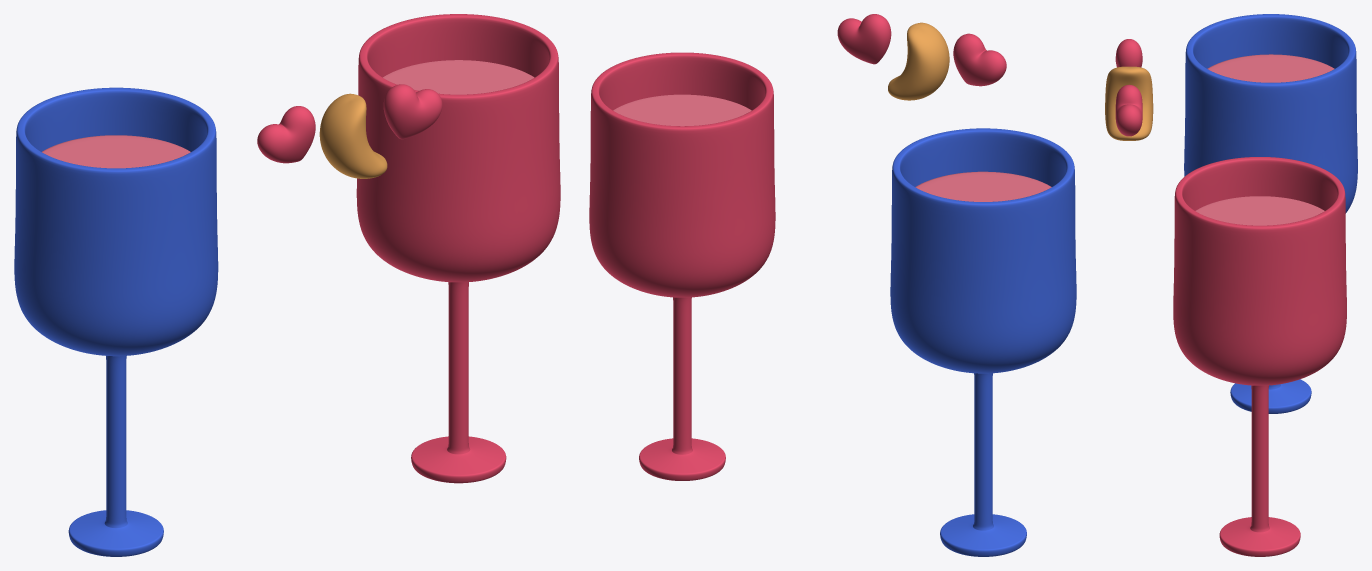
File: night-date-3d-animated-icon-1244209670007.glb
3 views of the same model, side by side, from view 1: azimuth 30°, elevation 25°; view 2: azimuth 150°, elevation 25°; view 3: azimuth 270°, elevation 25° (orthographic). The views are drawn at different scales.
Parts seen in each view (by area): view 1: glass 1, glass 2, moon, water 2, water 1, heart.001, heart; view 2: glass 1, glass 2, moon, water 2, water 1, heart.001, heart; view 3: glass 2, glass 1, water 2, water 1, moon, heart.001, heart.
Boxes of the visible parts, box(x1,y1,x2,y2) form: glass 1: box(14, 87, 218, 556); glass 2: box(356, 14, 560, 483); moon: box(319, 93, 387, 178); water 2: box(383, 60, 534, 94); water 1: box(42, 135, 190, 168); heart.001: box(383, 84, 442, 139); heart: box(257, 106, 315, 163); glass 1: box(890, 128, 1076, 556); glass 2: box(589, 52, 775, 480); moon: box(888, 22, 949, 100); water 2: box(613, 94, 751, 126); water 1: box(915, 171, 1051, 201); heart.001: box(837, 14, 891, 64); heart: box(953, 33, 1006, 86); glass 2: box(1173, 157, 1346, 556); glass 1: box(1184, 14, 1357, 413); water 2: box(1195, 196, 1324, 225); water 1: box(1207, 54, 1334, 82); moon: box(1105, 66, 1153, 140); heart.001: box(1115, 84, 1142, 136); heart: box(1115, 39, 1142, 67).
Size of the model in its own units: 2.81 by 2.47 by 1.41.
